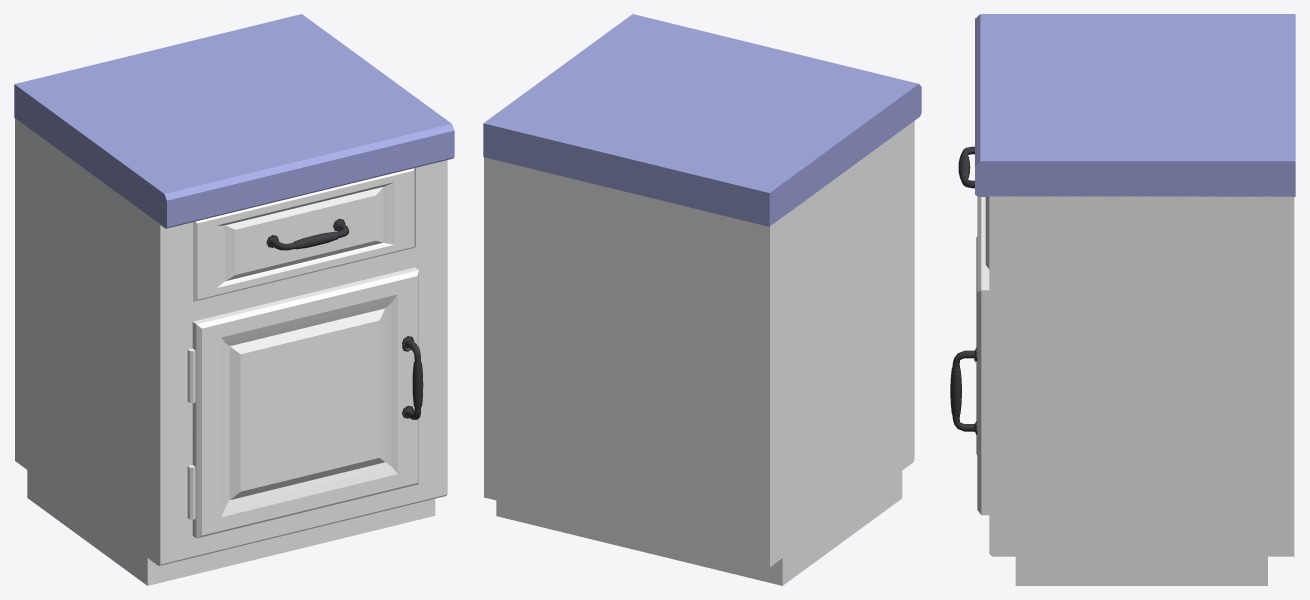
The model's file is Kitchen_Table_A_NewMatrial.fbx.
The picture shows the model from 3 angles, left to right: view 1: azimuth 30°, elevation 25°; view 2: azimuth 150°, elevation 25°; view 3: azimuth 270°, elevation 25°; orthographic projection. The views are drawn at different scales.
Parts seen in each view (by area): view 1: kitchenTableA_base, A_door_bottom1, A_drawer_top1; view 2: kitchenTableA_base; view 3: kitchenTableA_base, A_door_bottom1, A_drawer_top1.
Part boxes in pixels (x1,y1,x2,y2): kitchenTableA_base: (14,14,454,585); A_door_bottom1: (192,267,423,538); A_drawer_top1: (193,168,414,301); kitchenTableA_base: (483,14,921,585); kitchenTableA_base: (975,14,1295,585); A_door_bottom1: (950,197,989,515); A_drawer_top1: (958,146,989,268).
Size of the model in its own units: 80 by 107 by 79.21.
